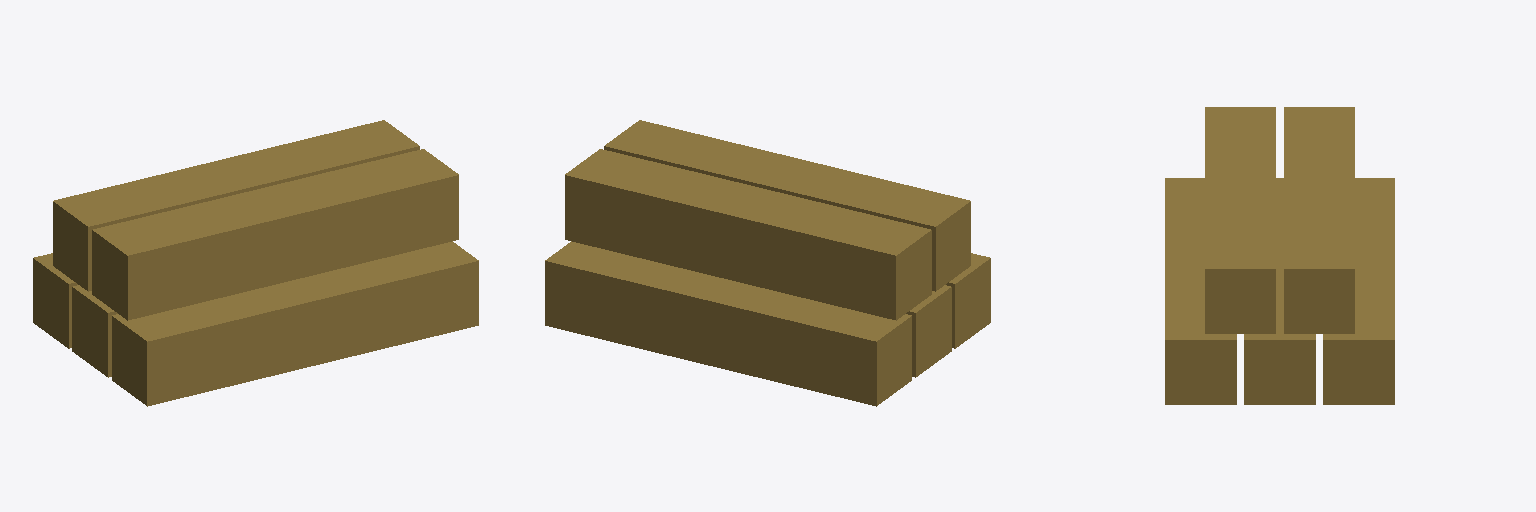
File: mokuzai.obj
The picture shows the model from 3 angles: view 1: azimuth 30°, elevation 25°; view 2: azimuth 150°, elevation 25°; view 3: azimuth 270°, elevation 25°; orthographic projection.
Visible parts, largest first — view 1: Cube.005; view 2: Cube.005; view 3: Cube.005.
Boxes of the visible parts, <box> form: Cube.005: <box>33,120,478,406</box>; Cube.005: <box>545,120,990,406</box>; Cube.005: <box>1165,107,1394,404</box>.
Size of the model in its own units: 1.94 by 0.7627 by 1.16.